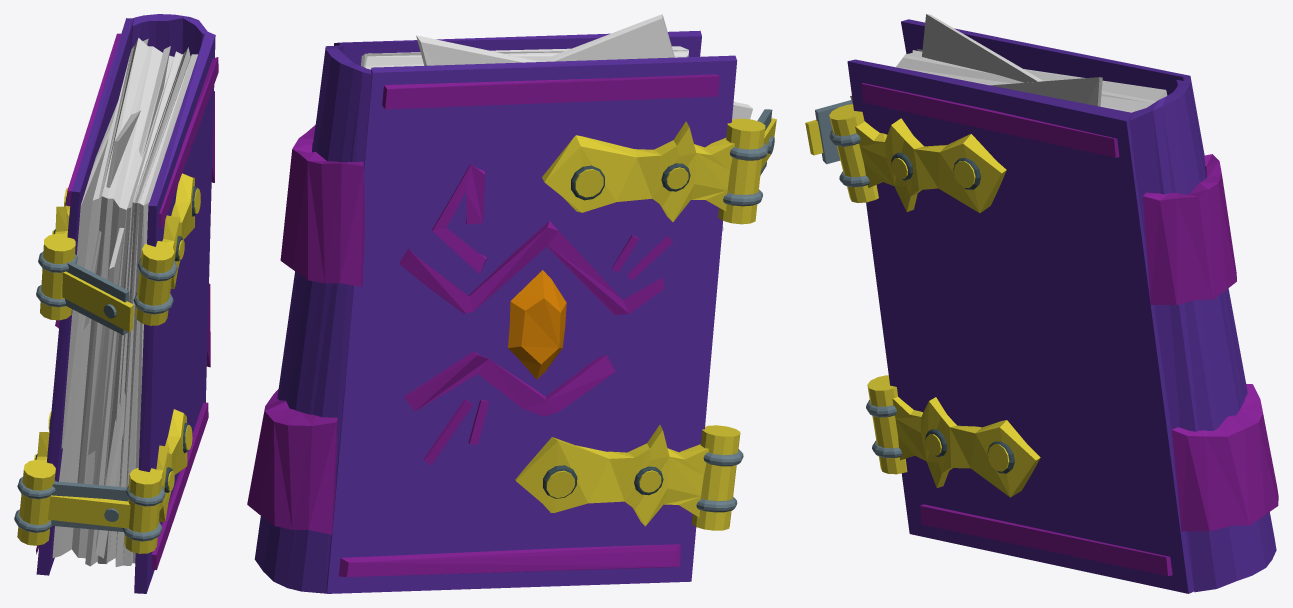
The picture shows the model from 3 angles, left to right: view 1: azimuth 30°, elevation 25°; view 2: azimuth 150°, elevation 25°; view 3: azimuth 270°, elevation 25°; orthographic projection. The views are drawn at different scales.
Visible parts, largest first — view 1: node_MeshObject-1101791232-PolyPaper2; view 2: node_MeshObject-1101791232-PolyPaper2; view 3: node_MeshObject-1101791232-PolyPaper2.
Part boxes in pixels (x1,y1,x2,y2): node_MeshObject-1101791232-PolyPaper2: [14, 14, 218, 593]; node_MeshObject-1101791232-PolyPaper2: [247, 14, 776, 593]; node_MeshObject-1101791232-PolyPaper2: [805, 14, 1278, 593].
Size of the model in its own units: 1.14 by 1.71 by 1.41.
